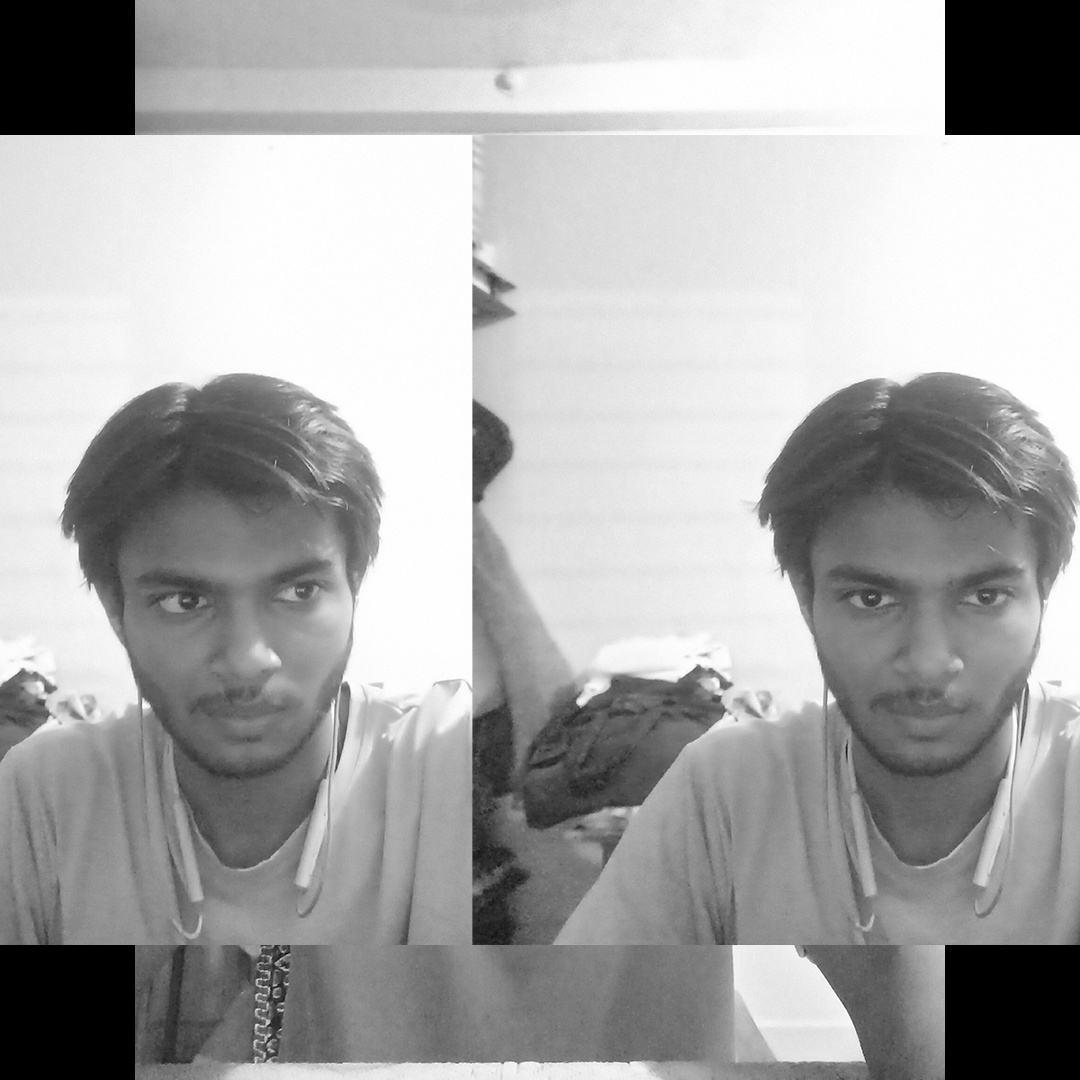Focused: (26, 306, 543, 985), (654, 318, 1072, 904)
